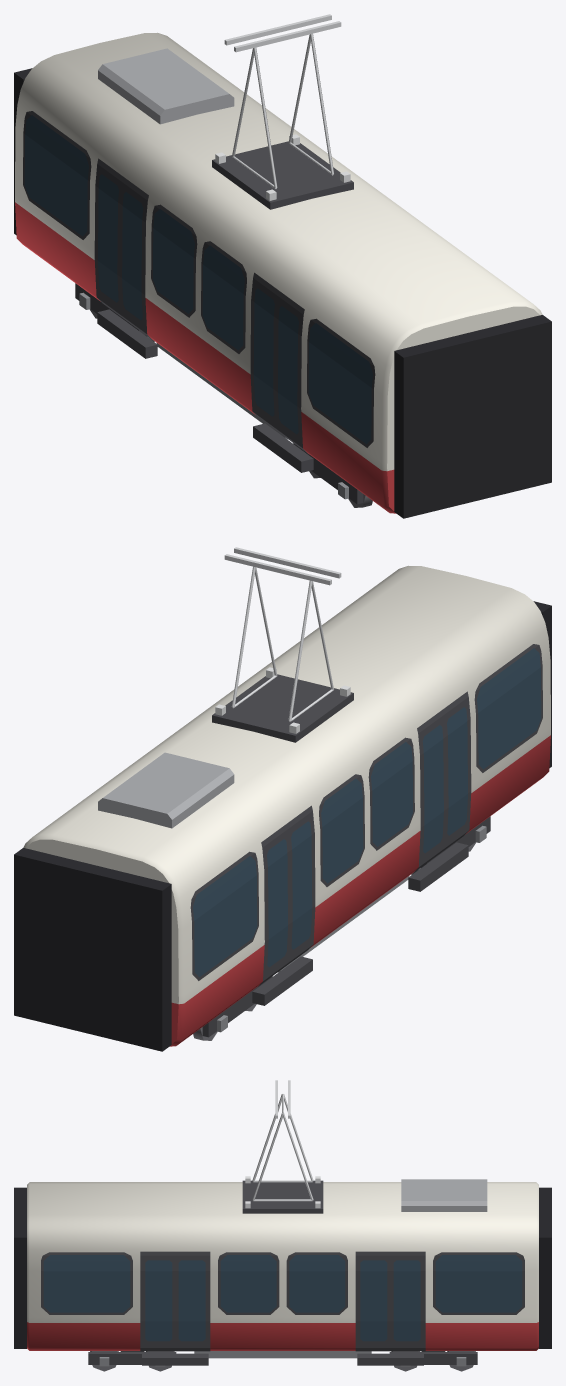
The model's file is middle_3.fbx.
3 views of the same model, one above another, from view 1: azimuth 30°, elevation 25°; view 2: azimuth 150°, elevation 25°; view 3: azimuth 270°, elevation 25° (orthographic). The views are drawn at different scales.
Visible parts, largest first — view 1: 14_middle_3; view 2: 14_middle_3; view 3: 14_middle_3.
Boxes of the visible parts, left/top/right/bottom form: 14_middle_3: left=14, top=14, right=551, bottom=518; 14_middle_3: left=14, top=547, right=551, bottom=1051; 14_middle_3: left=14, top=1080, right=551, bottom=1371.
Bounding box in the file's own units: 2.53 × 5.21 × 10.
